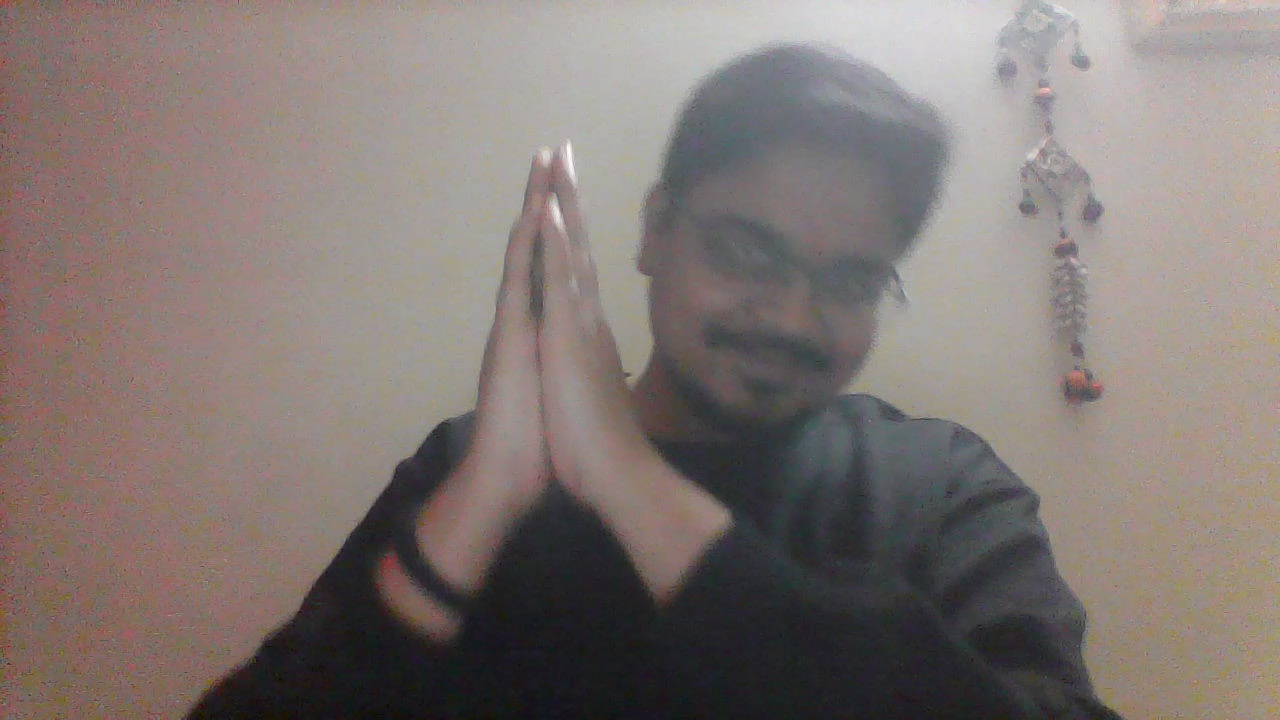Namaste: (447, 139, 670, 570)
